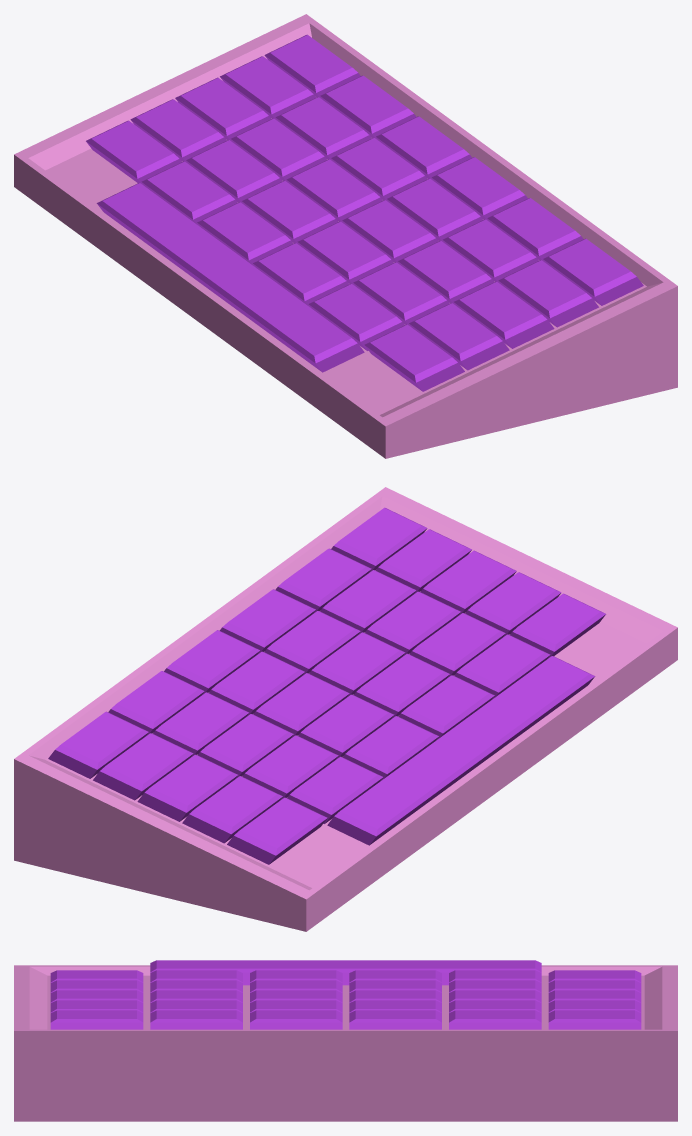
The model's file is Keyboard.glb.
3 renders of one model, top to bottom at view 1: azimuth 30°, elevation 25°; view 2: azimuth 150°, elevation 25°; view 3: azimuth 270°, elevation 25°, orthographic. The views are drawn at different scales.
Parts seen in each view (by area): view 1: keyboard.004; view 2: keyboard.004; view 3: keyboard.004.
Part boxes in pixels (box(x1,y1,x2,y2)): keyboard.004: box(14, 14, 677, 458); keyboard.004: box(14, 487, 677, 931); keyboard.004: box(14, 960, 677, 1121).
Bounding box in the file's own units: 0.9086 × 0.3089 × 2.
